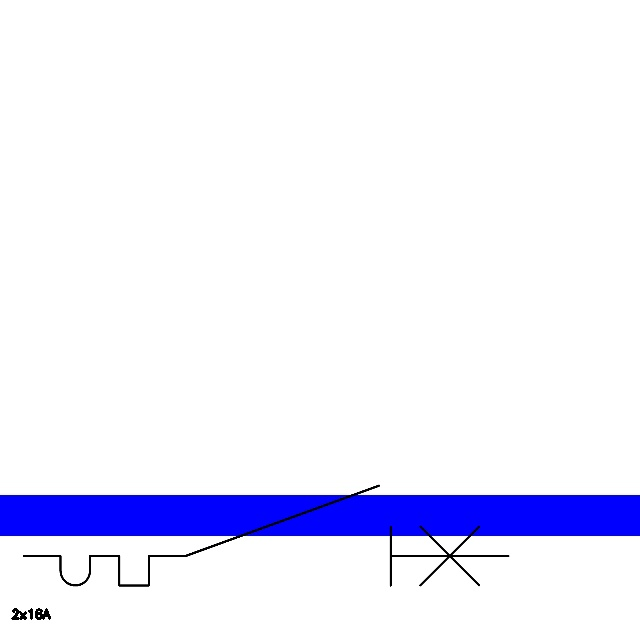interruptor_termomagnetico: (11, 473, 521, 598)
